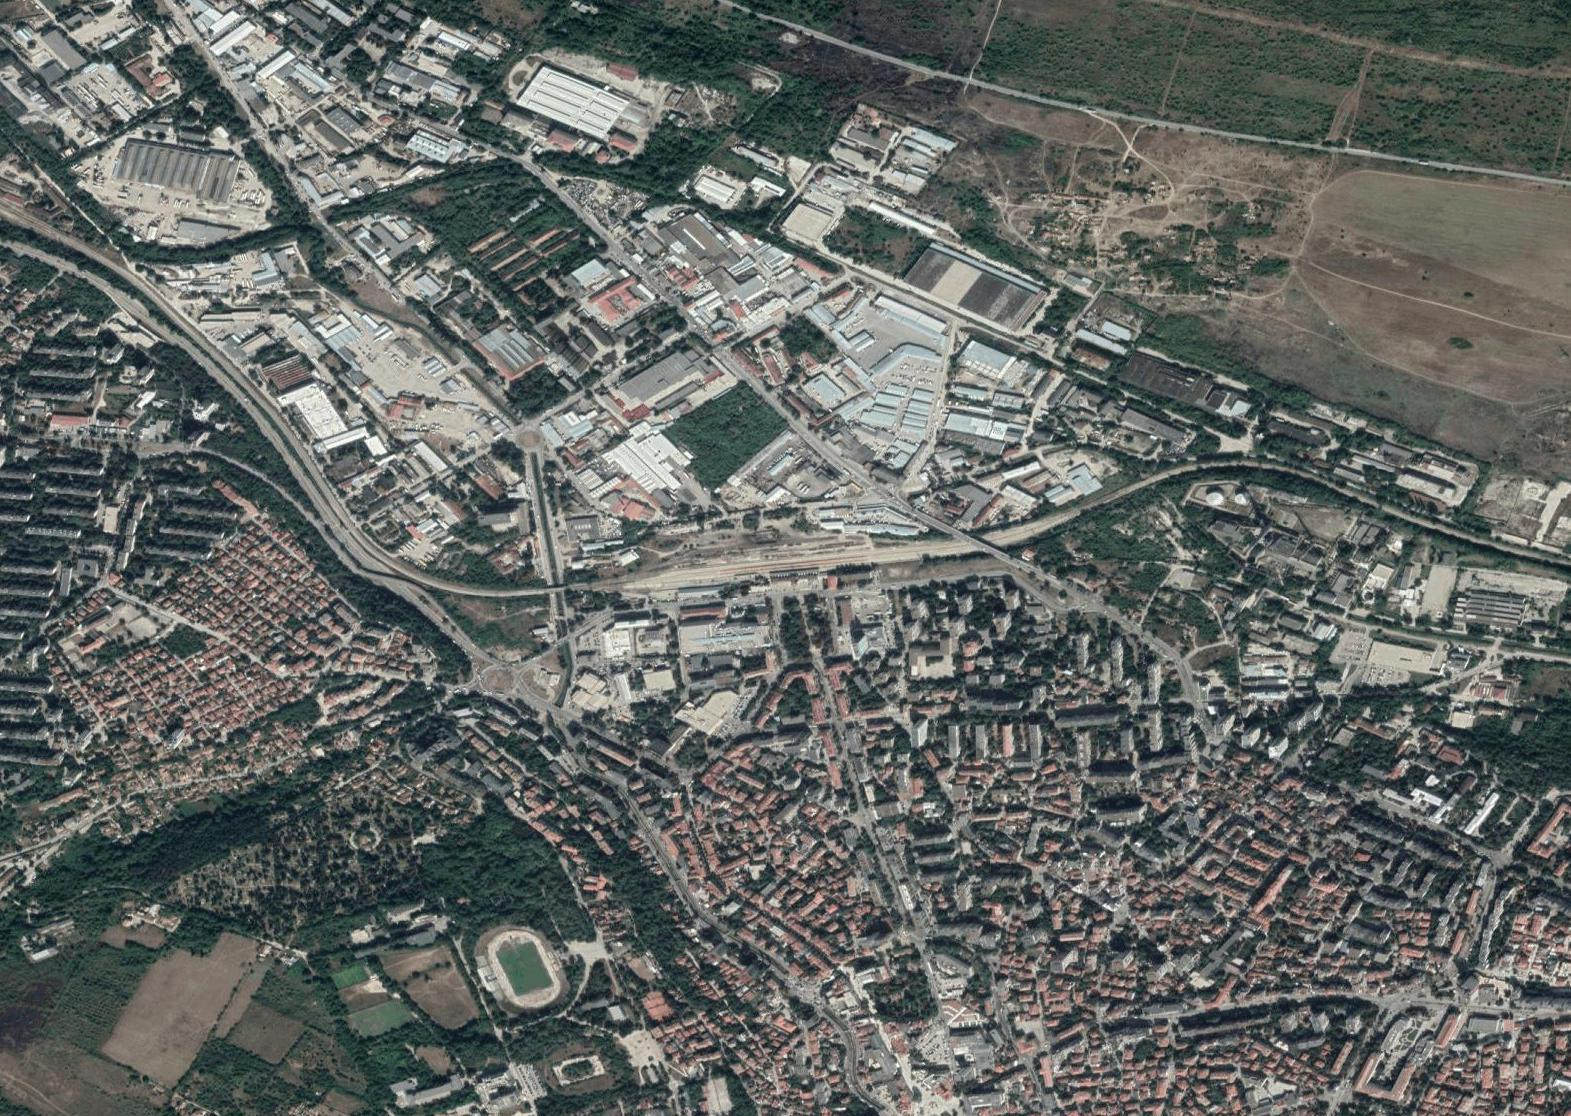industrial: (592, 226, 1060, 537)
motorway: (1054, 99, 1240, 145), (731, 1, 884, 57), (1244, 130, 1449, 172), (885, 53, 1054, 103), (1453, 163, 1571, 196)
train_station: (718, 535, 873, 604)
